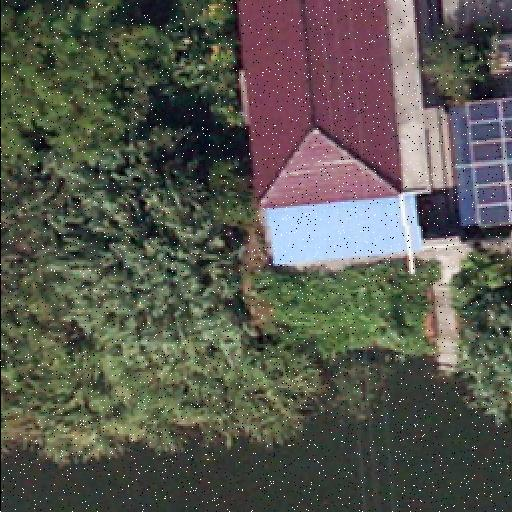solar-panel: (462, 100, 512, 230)
